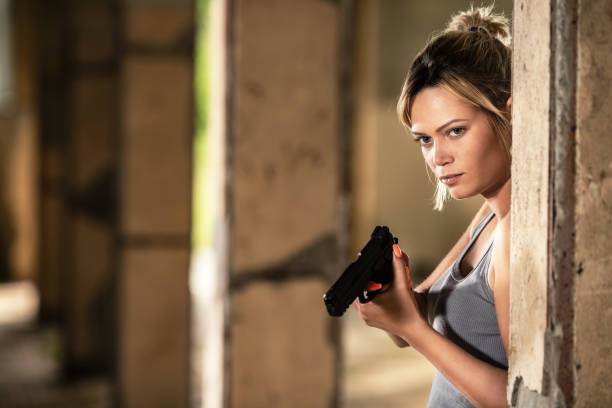gun: (323, 223, 400, 320)
